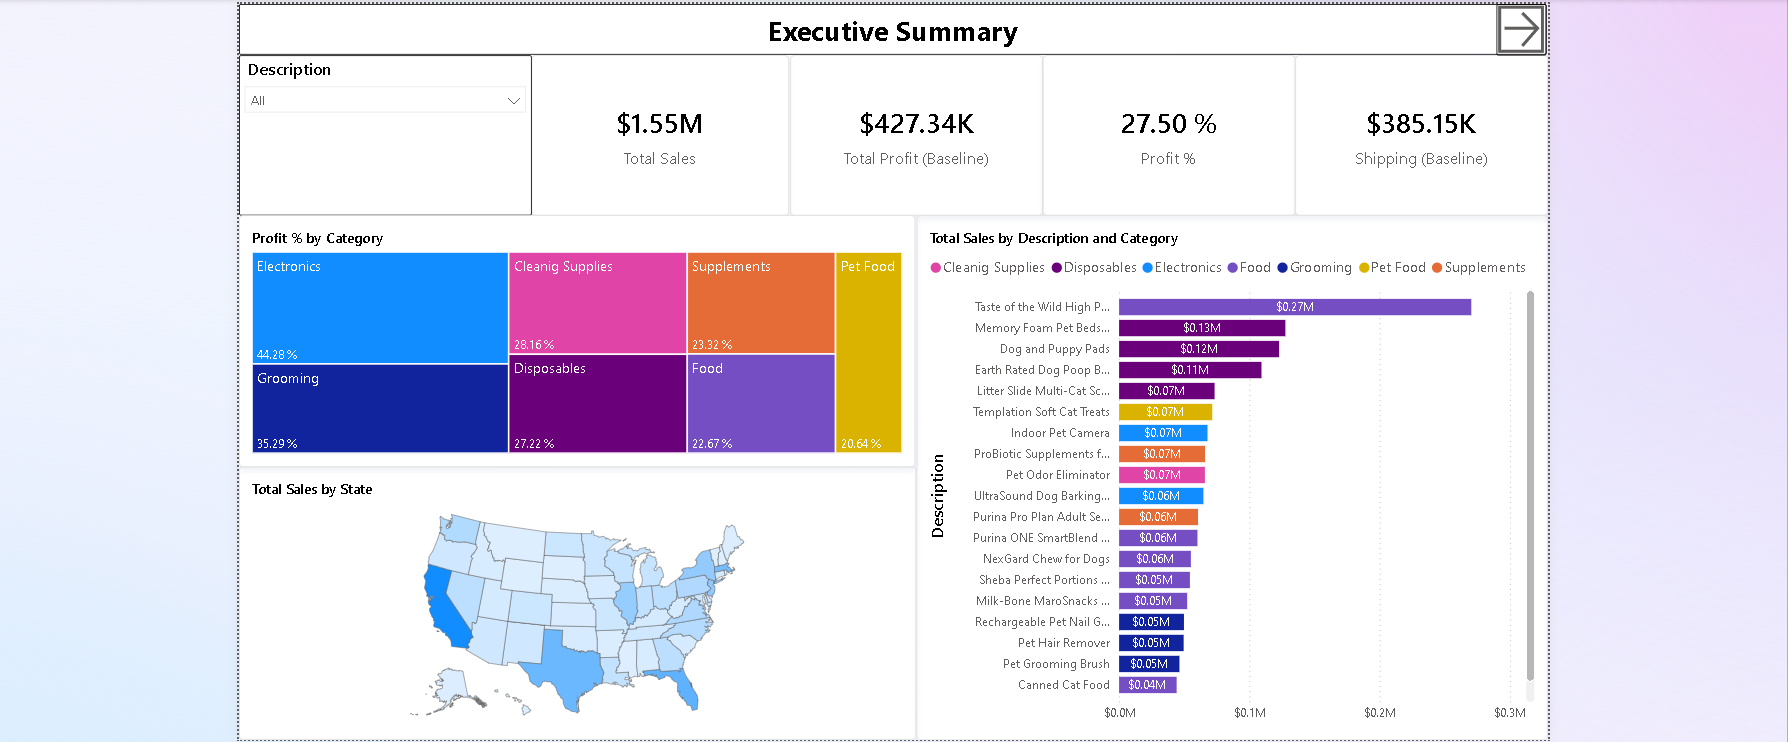

What the dashboard file says about the page in this screenshot:
{"tool":"powerbi","page":{"name":"Executive Summary","canvas":[1280,720],"ordinal":0},"visuals":[{"type":"shapeMap","title":"Total Sales by State","fields":{"Category":["State Mapping.State"],"Value":["Sum(Sales.Sales)"]},"box":[0,452.1,662.3,267.5],"z":0},{"type":"card","fields":{"Values":["Sum(Sales.Profit (Baseline))"]},"box":[538.7,49.7,247.1,156.7],"z":1000},{"type":"card","fields":{"Values":["Sum(Sales.Sales)"]},"box":[286.6,49.7,252.2,156.7],"z":2000},{"type":"card","fields":{"Values":["New_Measures.Profit %"]},"box":[785.8,49.7,247.1,156.7],"z":3000},{"type":"card","fields":{"Values":["Sales.Shipping (Baseline)"]},"box":[1032.9,49.7,247.1,156.7],"z":4000},{"type":"barChart","title":"Total Sales by Description and Category","fields":{"Category":["Sales.Description"],"Y":["Sum(Sales.Sales)"],"Series":["Products.Category"]},"box":[662.3,206.3,617.7,513.3],"z":5000},{"type":"slicer","fields":{"Values":["Products.Description"]},"box":[0,49.7,286.6,156.7],"z":6000},{"type":"treemap","fields":{"Group":["Products.Category","Products.Description"],"Values":["New_Measures.Profit %"]},"box":[0,206.2,661.9,246.1],"z":7000},{"type":"textbox","box":[0,0,1279.5,49.7],"z":8000},{"type":"actionButton","box":[1230.2,0,48.9,50.1],"z":9000}]}

Visuals, with their boxes on the page's 1280x720 design canvas (x1, y1, x2, y2). These are canvas units, not pixel positions in the 1788x742 screenshot, which may show the page scaled, cropped or inside an application window:
"Total Sales by State" shapeMap: l=0, t=452, r=662, b=720
card - Sum(Sales.Profit (Baseline)): l=539, t=50, r=786, b=206
card - Sum(Sales.Sales): l=287, t=50, r=539, b=206
card - New_Measures.Profit %: l=786, t=50, r=1033, b=206
card - Sales.Shipping (Baseline): l=1033, t=50, r=1280, b=206
"Total Sales by Description and Category" barChart: l=662, t=206, r=1280, b=720
slicer - Products.Description: l=0, t=50, r=287, b=206
treemap - Products.Category x Products.Description: l=0, t=206, r=662, b=452
textbox: l=0, t=0, r=1280, b=50
actionButton: l=1230, t=0, r=1279, b=50
